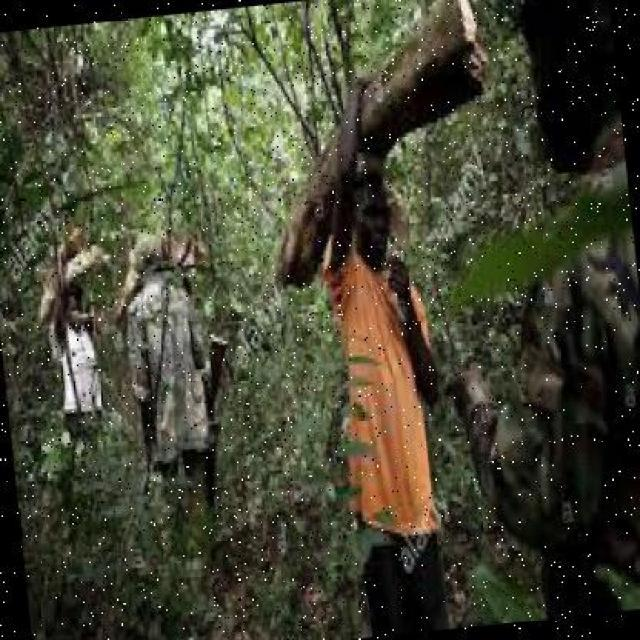poacher: (294, 148, 470, 590), (101, 208, 246, 512), (29, 223, 112, 488)
